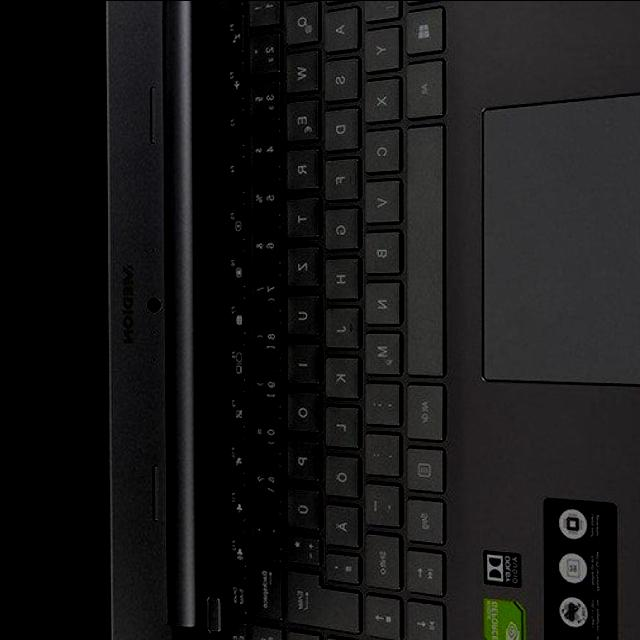0: (246, 410, 280, 454)
1: (246, 0, 280, 26)
2: (246, 28, 280, 74)
3: (247, 76, 280, 120)
4: (246, 124, 280, 168)
5: (247, 173, 280, 217)
6: (246, 222, 280, 264)
7: (246, 268, 280, 310)
8: (247, 316, 281, 358)
9: (247, 363, 281, 405)
a: (320, 4, 358, 50)
accent: (247, 506, 281, 547)
ae: (322, 499, 359, 545)
alt-left: (403, 55, 444, 117)
altgr-right: (403, 379, 443, 440)
b: (360, 226, 400, 273)
c: (360, 123, 400, 171)
comma: (361, 377, 399, 423)
d: (320, 103, 358, 149)
del: (245, 550, 281, 618)
e: (282, 94, 319, 140)
enter: (283, 567, 358, 631)
f: (321, 153, 357, 199)
g: (321, 203, 358, 249)
h: (321, 253, 358, 298)
hash: (319, 548, 359, 582)
i: (283, 339, 318, 383)
j: (322, 303, 359, 347)
k: (322, 352, 358, 397)
keyboard: (220, 0, 454, 640)
l: (322, 402, 358, 446)
less: (360, 0, 398, 21)
m: (360, 327, 400, 374)
minus: (361, 479, 399, 525)
n: (360, 276, 400, 323)
o: (283, 387, 319, 432)
oe: (322, 451, 358, 497)
p: (283, 435, 319, 480)
plus: (283, 531, 319, 563)
point: (361, 430, 399, 476)
q: (282, 0, 318, 44)
r: (282, 144, 319, 188)
s: (321, 53, 359, 100)
shift-right: (360, 529, 400, 588)
space: (402, 119, 444, 375)
ss: (247, 457, 281, 501)
strg-right: (403, 492, 444, 542)
t: (282, 194, 318, 238)
u: (283, 290, 319, 335)
ue: (284, 484, 320, 529)
v: (360, 174, 400, 222)
w: (281, 46, 318, 92)
x: (360, 73, 400, 120)
y: (361, 23, 399, 71)
z: (283, 242, 319, 286)
